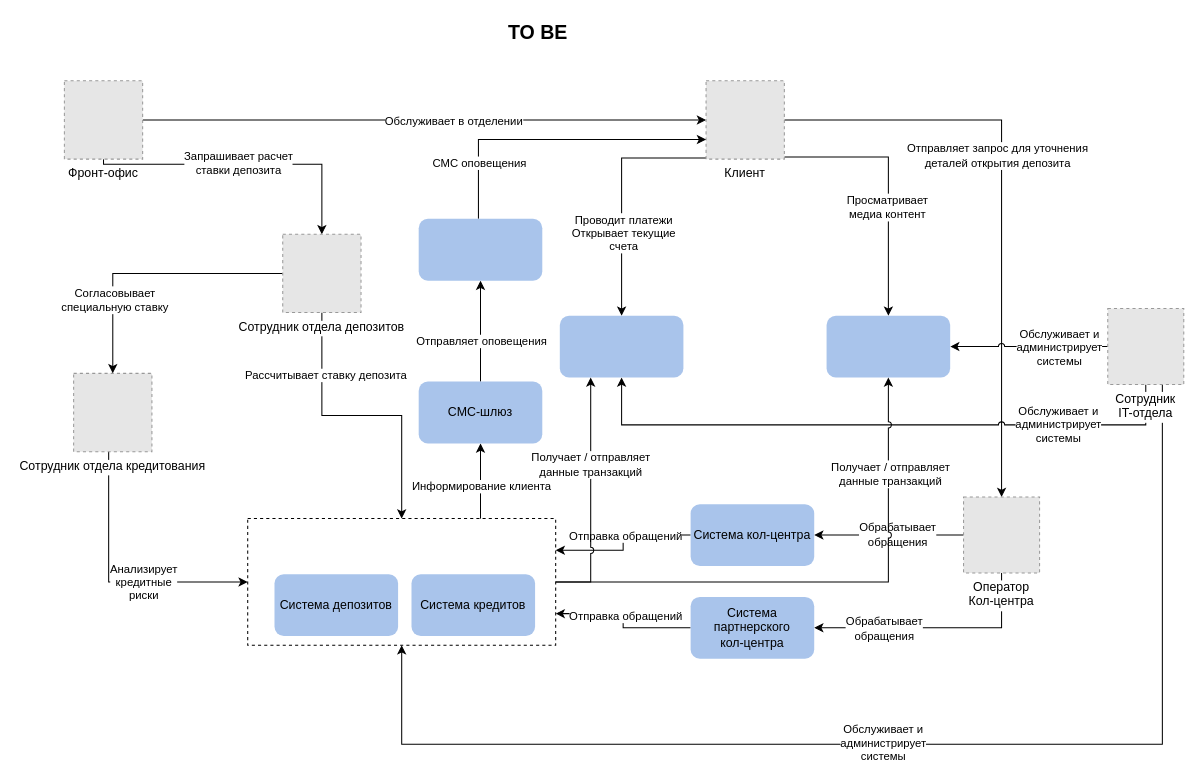
The diagram is 1202 pixels wide and 782 high, and some of its shapes have lost their labels. Grey dashed boxes stand in for pictures. Here are the shapes that lost their labels. From the top down, the box of each, then its label:
(418, 218, 542, 280): Телеком оператор
(559, 315, 683, 377): Интернет-банк
(826, 315, 950, 377): Сайт
(247, 518, 556, 645): Автоматизированная банковская система
